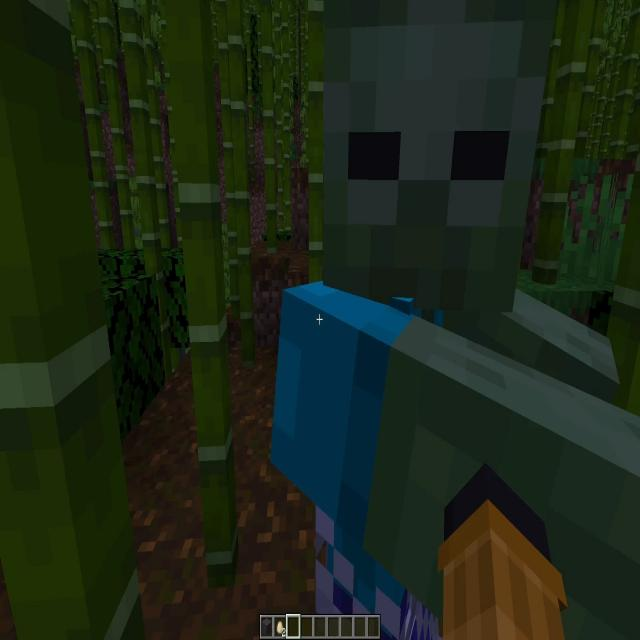Zombie: (311, 1, 633, 640)
